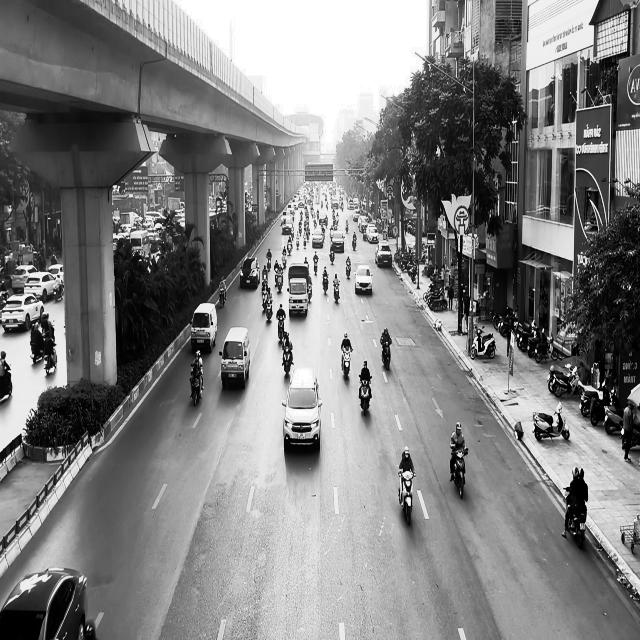car: (0, 566, 96, 640), (282, 366, 323, 450), (219, 326, 251, 389), (1, 293, 44, 332), (288, 277, 308, 317), (240, 257, 260, 289), (354, 264, 373, 294), (376, 241, 392, 267), (312, 228, 325, 248)
motorbike: (563, 487, 587, 548), (533, 402, 570, 441), (398, 468, 416, 525), (450, 447, 468, 499), (470, 325, 496, 359), (190, 366, 204, 406), (359, 375, 372, 416), (341, 346, 353, 378), (282, 343, 294, 375), (381, 336, 392, 370), (266, 294, 274, 321), (219, 286, 227, 308), (333, 280, 341, 302), (313, 257, 319, 275), (352, 236, 357, 250)
